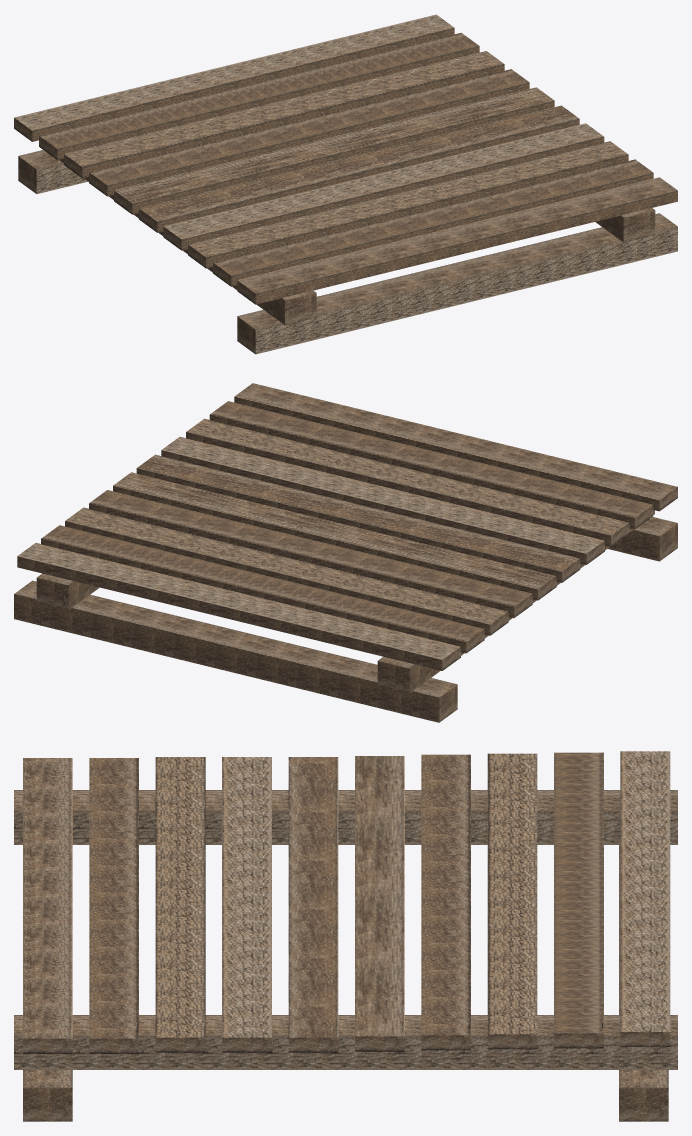
The model's file is platform.fbx.
3 renders of one model, top to bottom at view 1: azimuth 30°, elevation 25°; view 2: azimuth 150°, elevation 25°; view 3: azimuth 270°, elevation 25°, orthographic. The views are drawn at different scales.
Visible parts, largest first — view 1: Platform; view 2: Platform; view 3: Platform.
Boxes of the visible parts, bbox=[...] form: Platform: bbox=[14, 14, 677, 354]; Platform: bbox=[14, 383, 677, 722]; Platform: bbox=[14, 751, 677, 1121].
Size of the model in its own units: 404 by 57.75 by 400.
1 material, 1 textured.
